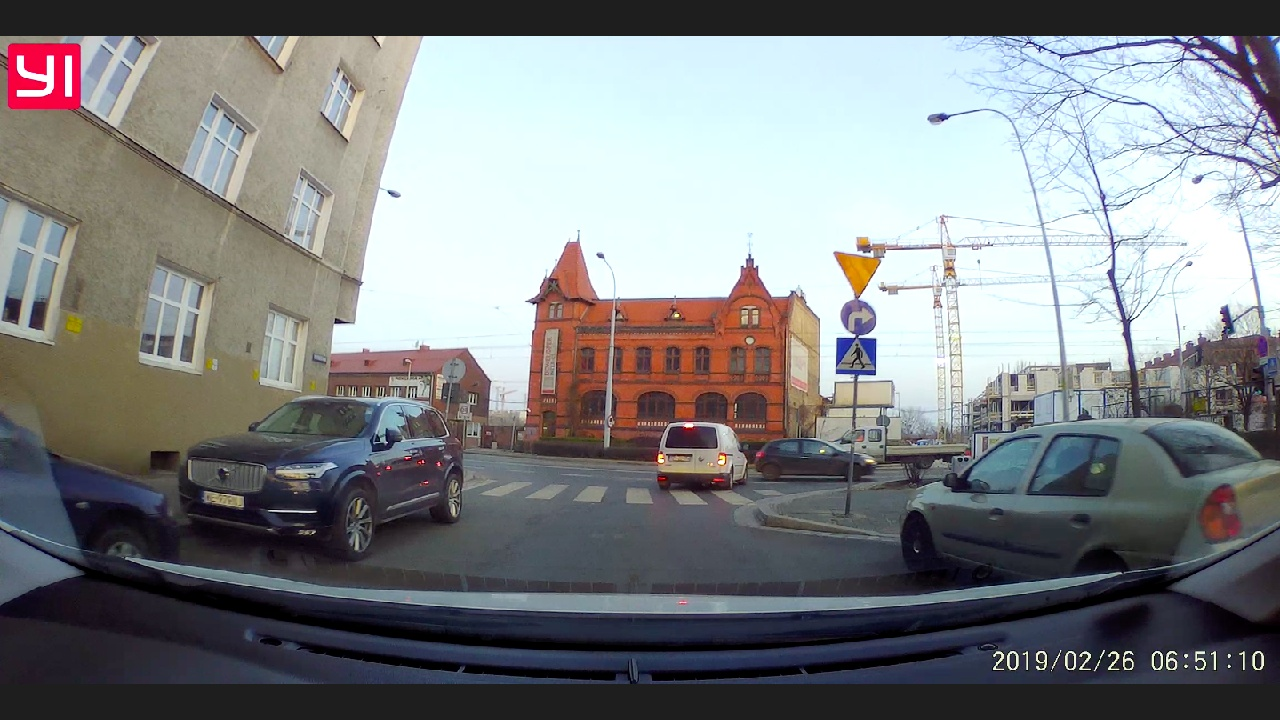A7: (826, 244, 888, 301)
C2: (833, 298, 885, 337)
D6: (833, 333, 881, 378)
